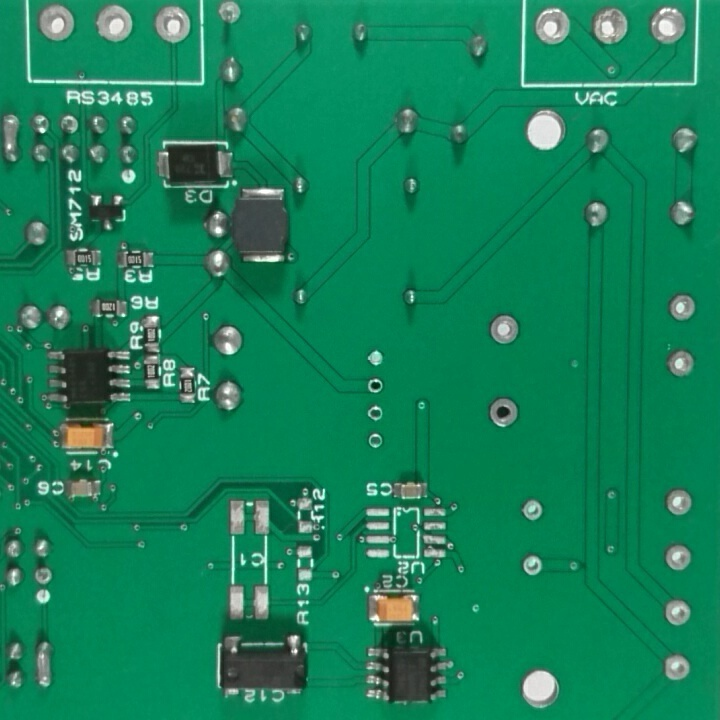F: (532, 5, 577, 51), (93, 3, 137, 47), (590, 7, 634, 49), (35, 3, 78, 45), (154, 3, 195, 47), (648, 6, 690, 46), (486, 394, 522, 432), (665, 289, 700, 325), (487, 311, 521, 348), (665, 347, 700, 380), (660, 650, 692, 686), (665, 543, 696, 578), (663, 596, 694, 631), (665, 485, 695, 520), (518, 497, 547, 525), (214, 1, 245, 27), (520, 552, 545, 582), (58, 114, 81, 138), (365, 347, 387, 372), (34, 564, 53, 589), (365, 376, 385, 398), (365, 404, 386, 424), (367, 430, 385, 452)
P: (34, 638, 56, 695), (1, 111, 23, 166)
